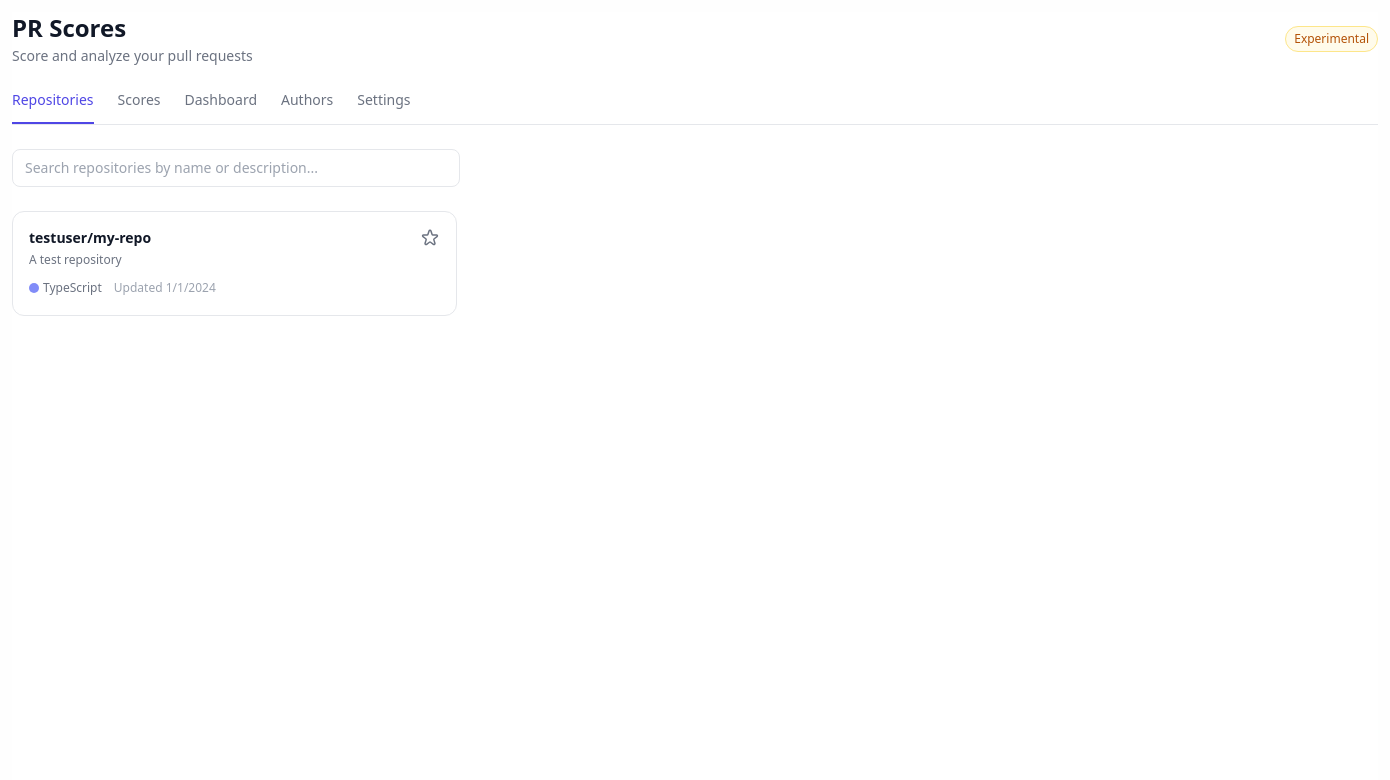
Scenario: PrScores › with feature flags enabled — detail view › shows Score Breakdown section
Click the heading "testuser/my-repo" at (90,238), box [29,228,151,248]
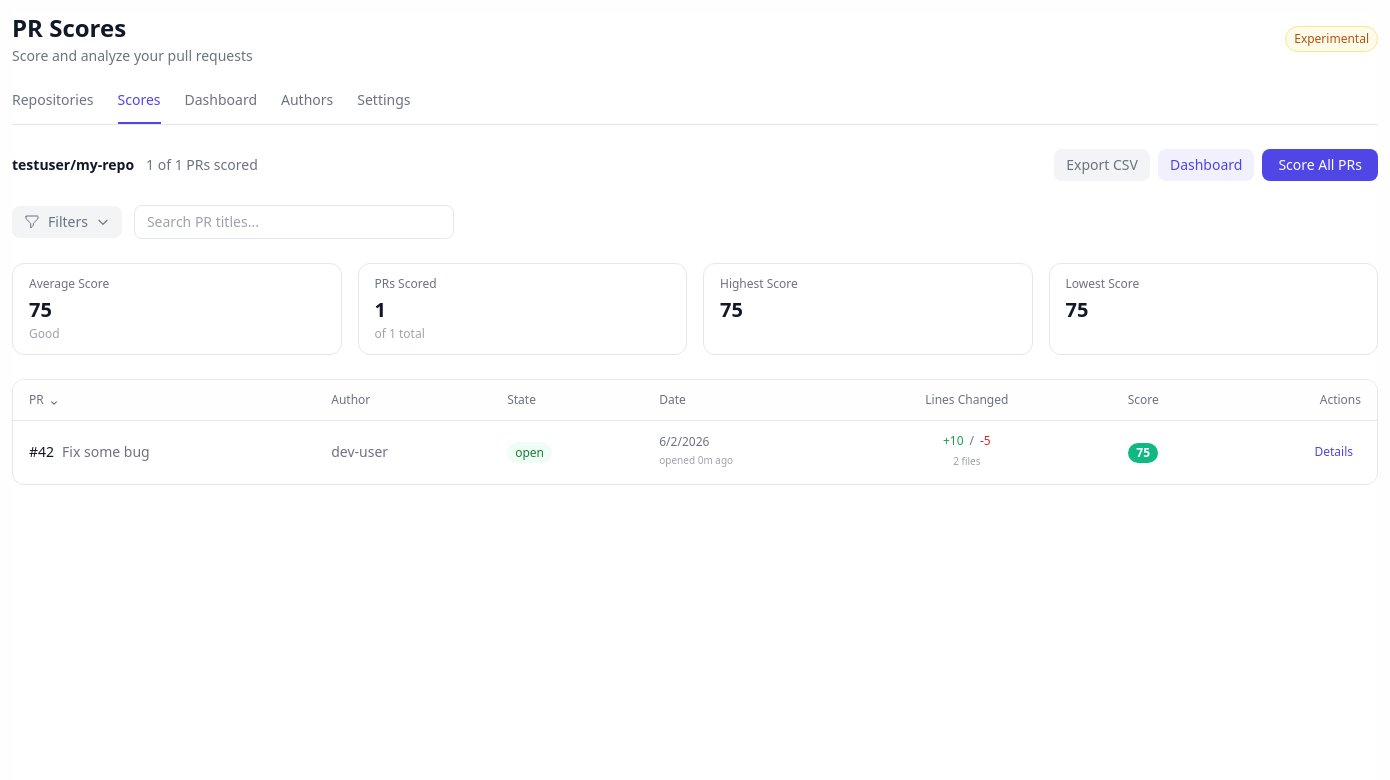
Check: the text "1 of 1 PRs scored" is shown, box [146,155,258,175]
Click the button "Details" at (1334,452), box [1306,440,1361,464]
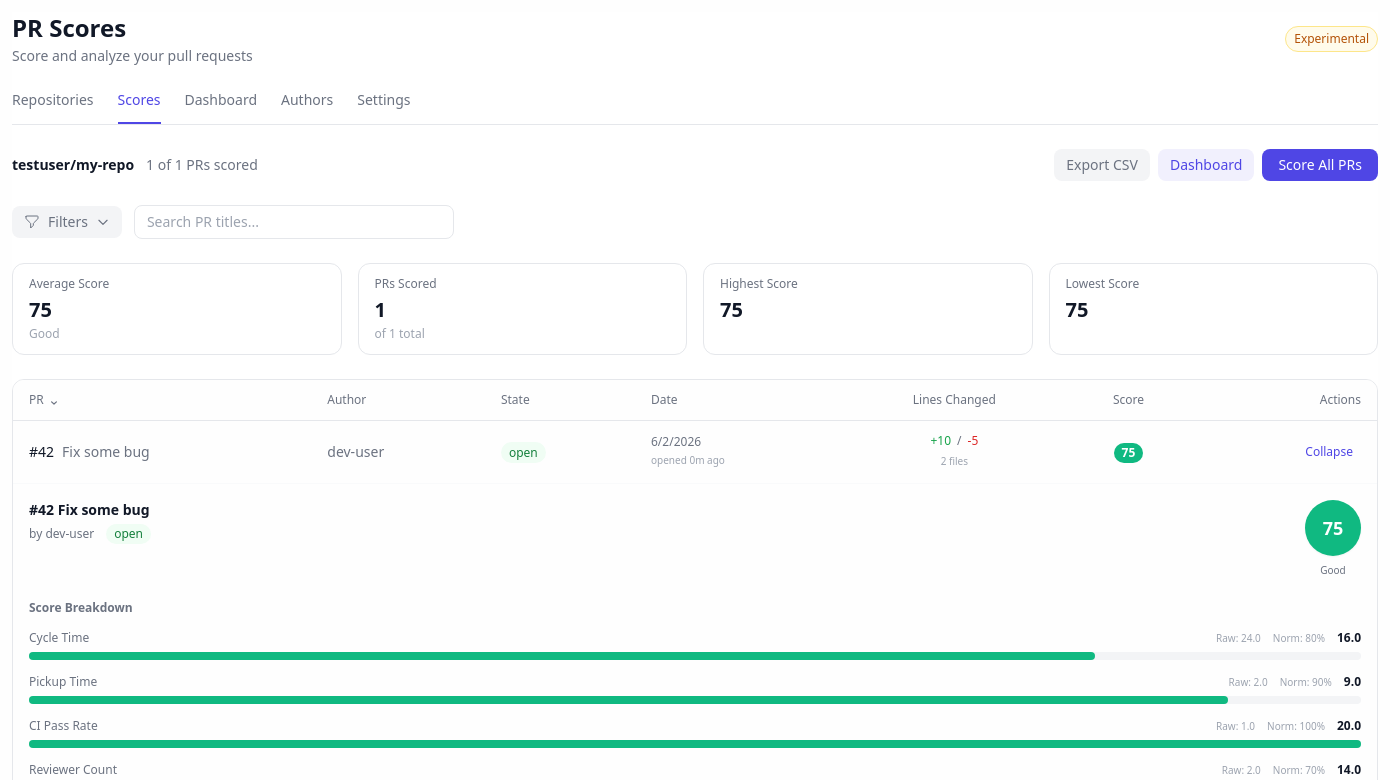
Check: the heading "Score Breakdown" is shown, box [29,599,133,616]
